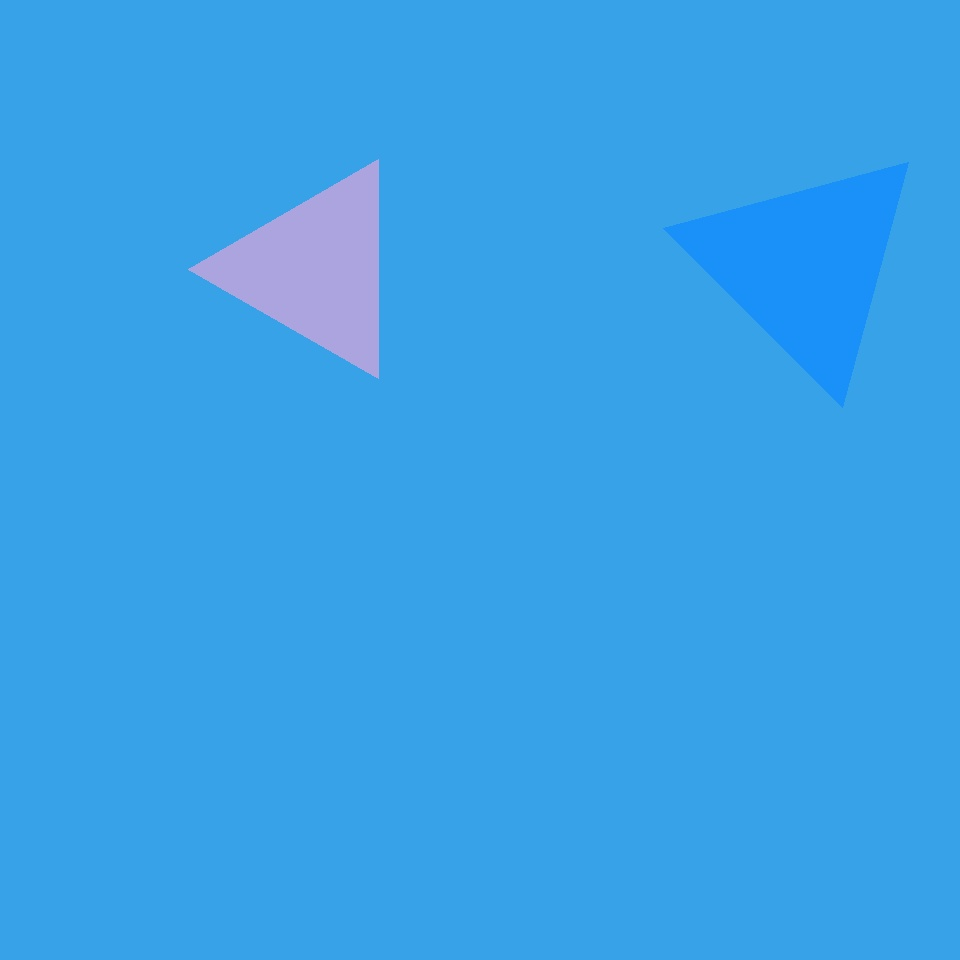circle: (682, 144, 927, 388), (220, 160, 410, 378)
square: (372, 145, 734, 508), (297, 731, 398, 832)
